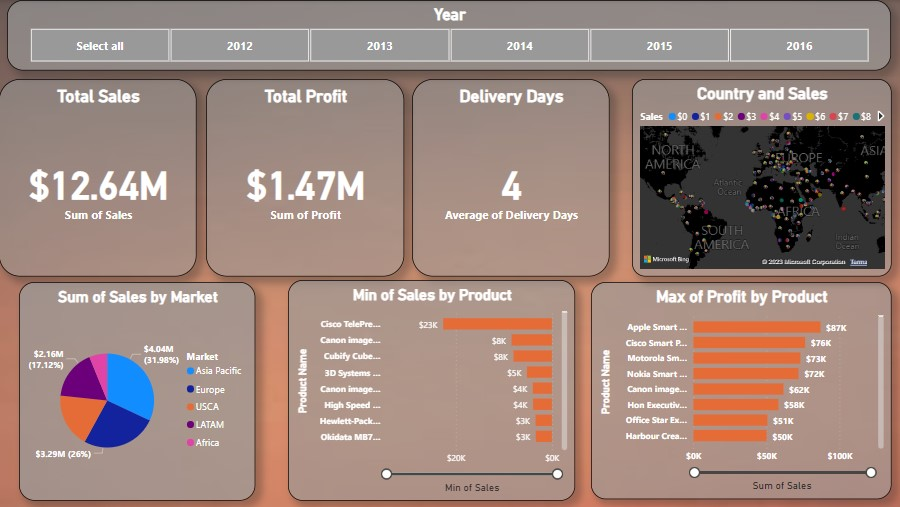

This screenshot's page, from the dashboard's own definition file:
{"tool":"powerbi","page":{"name":"Page 1","canvas":[1280,720],"ordinal":0},"visuals":[{"type":"card","title":"Total Sales","fields":{"Values":["Sum(sale.Sales)"]},"box":[0,112.1,280.2,280.2],"z":0},{"type":"card","title":"Total Profit","fields":{"Values":["Sum(sale.Profit)"]},"box":[292.8,111.7,281.5,280.1],"z":1000},{"type":"card","title":"Total Slaes","fields":{"Values":["Avg(sale.Delivery Days)"]},"box":[585.6,111.7,280.1,280.1],"z":2000},{"type":"clusteredBarChart","title":"Max of Profit by Product","fields":{"Category":["sale.Product Name"],"Y":["Sum(sale.Sales)"]},"box":[838.8,400.3,425.8,308.4],"z":3000},{"type":"pieChart","fields":{"Category":["sale.Market"],"Y":["Sum(sale.Sales)"]},"box":[28.3,400.3,335.2,309.8],"z":4000},{"type":"clusteredBarChart","title":"Min of Sales by Product","fields":{"Category":["sale.Product Name"],"Y":["Min(sale.Sales)"]},"box":[410.2,397.5,407.4,312.6],"z":5000},{"type":"slicer","title":"Year","fields":{"Values":["sale.Year"]},"box":[11.3,0,1253.3,100.4],"z":6000},{"type":"map","fields":{"Category":["sale.Country"],"Series":["sale.Sales"]},"box":[896.8,111.7,367.8,280.1],"z":7000}]}

Visuals, with their boxes in screenshot pixels (x1, y1, x2, y2), scaled from the page's 1280x720 canvas onto the 900x507 screenshot:
"Total Sales" card: region(0, 79, 197, 276)
"Total Profit" card: region(206, 79, 404, 276)
"Total Slaes" card: region(412, 79, 609, 276)
"Max of Profit by Product" clusteredBarChart: region(590, 282, 889, 499)
pieChart - sale.Market x Sum(sale.Sales): region(20, 282, 256, 500)
"Min of Sales by Product" clusteredBarChart: region(288, 280, 575, 500)
"Year" slicer: region(8, 0, 889, 71)
map - sale.Country x sale.Sales: region(631, 79, 889, 276)
